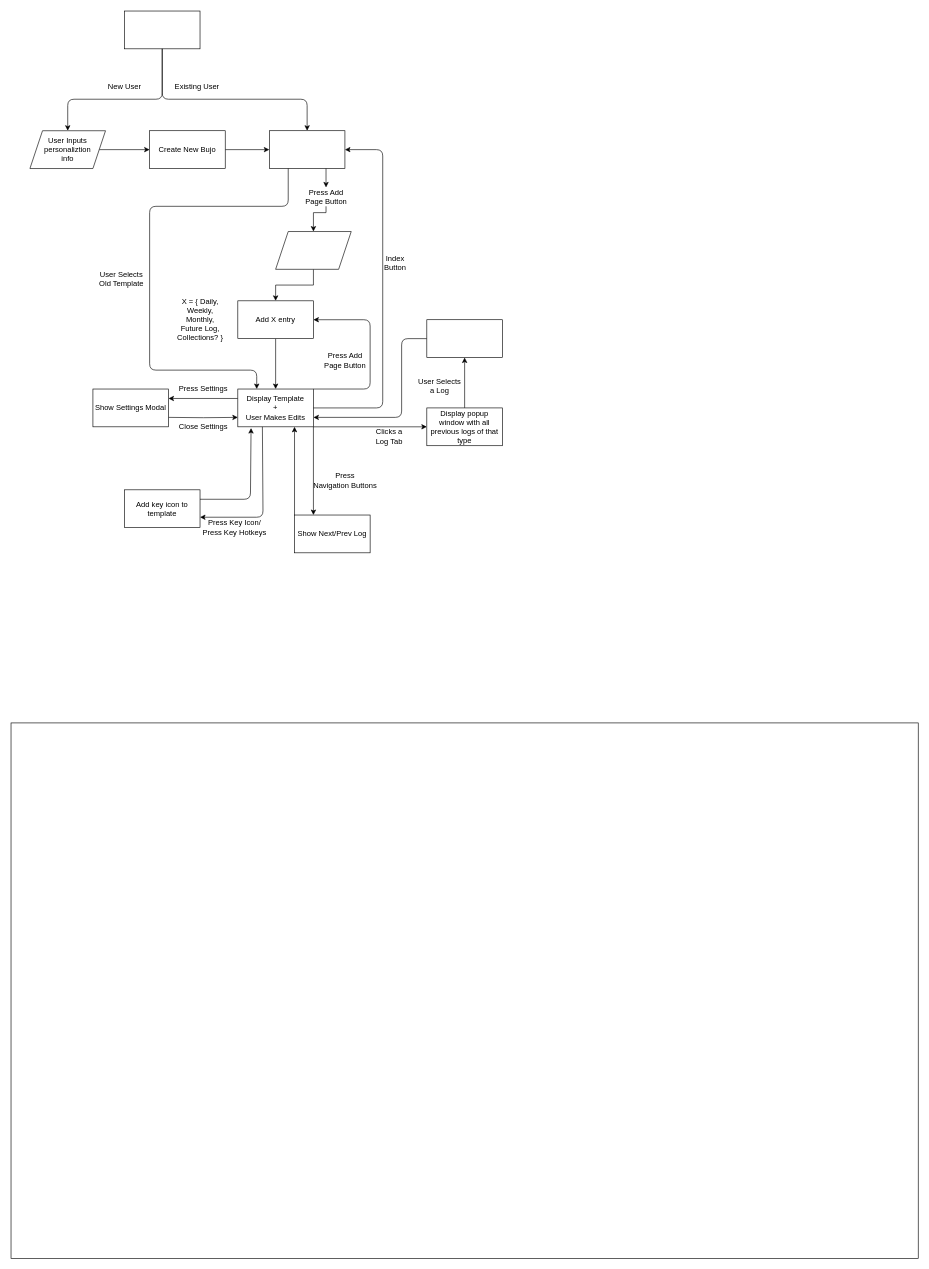
Image size: 929x1269. Some labels were removed from this diagram. The shapes that lost their labels are listed below. From the top down, each one's centre as x and y in pixels, then its label:
At (162,29): "Start".
At (307,149): "Show Index Page".
At (313,250): "User Chooses Template".
At (464,338): "Toggle display on log tabs appropiately + delete pop up window".
